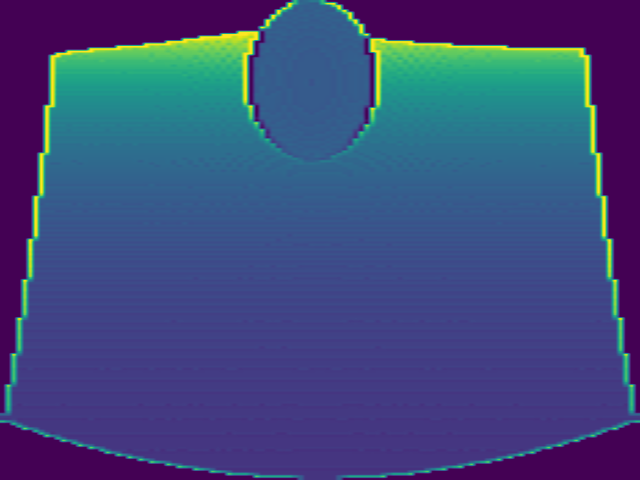sphere: (242, 1, 380, 163)
